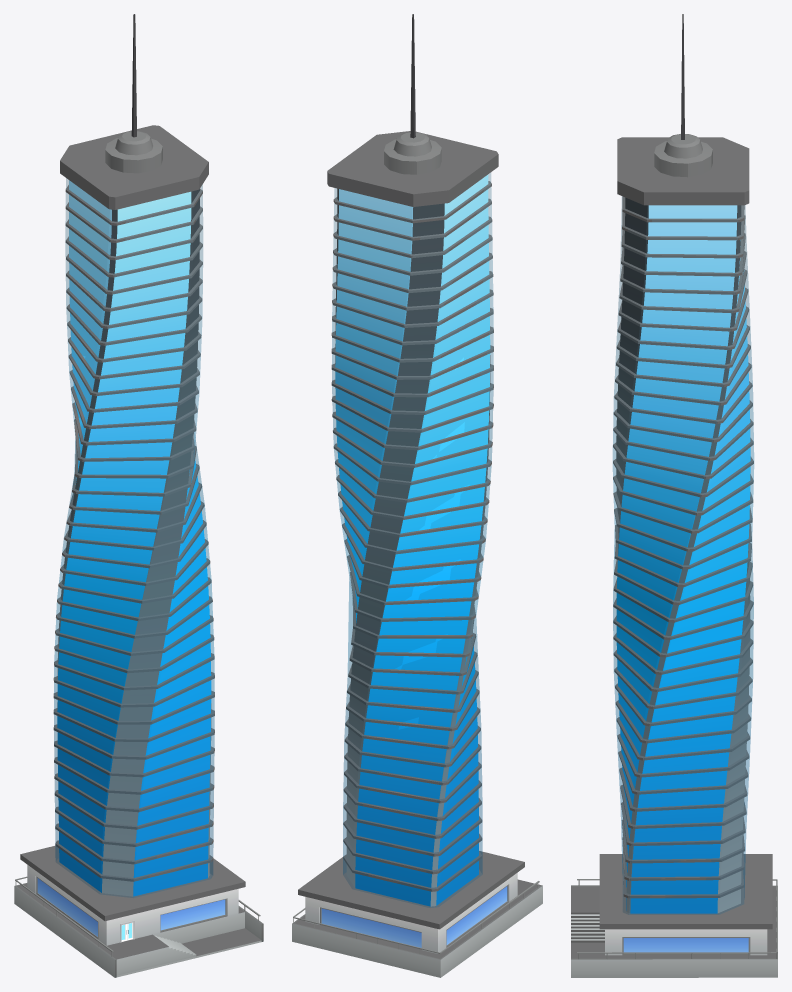
File: city2-building-skyscraper-04.glb
3 renders of one model, left to right at view 1: azimuth 30°, elevation 25°; view 2: azimuth 150°, elevation 25°; view 3: azimuth 270°, elevation 25°, orthographic. The views are drawn at different scales.
Parts seen in each view (by area): view 1: Building_Skyscraper_04; view 2: Building_Skyscraper_04; view 3: Building_Skyscraper_04.
Boxes of the visible parts, <box> form: Building_Skyscraper_04: <box>14,14,263,977</box>; Building_Skyscraper_04: <box>292,14,542,977</box>; Building_Skyscraper_04: <box>571,14,777,977</box>.
Size of the model in its own units: 19.34 by 113 by 22.77.
Materials: 2 (2 with a texture image).
